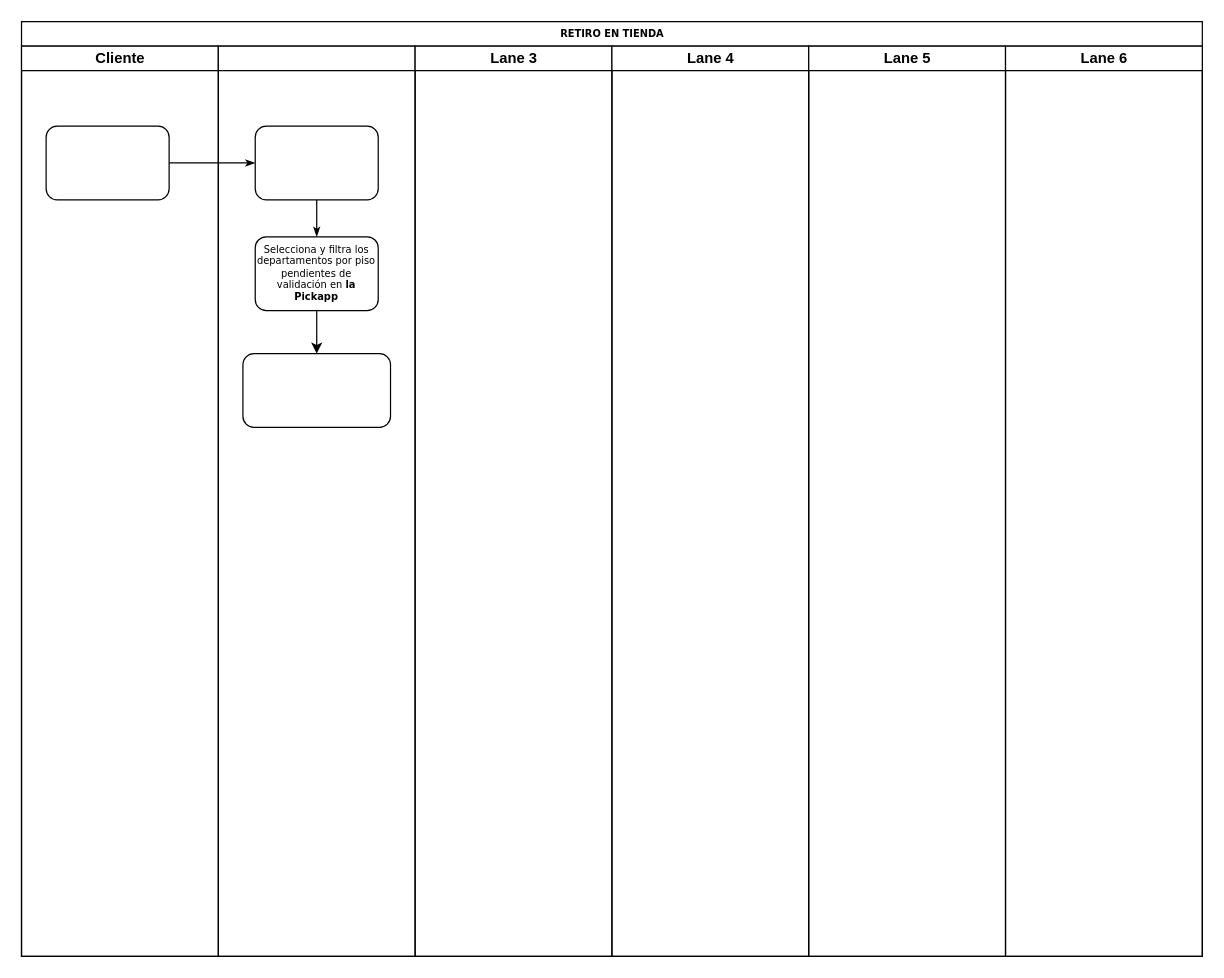
This 1224x978 diagram has some shape labels left out. Here are the shapes that lost their labels. From the top down, the box of each, then its label:
(45, 125, 169, 200): Realiza compra con Retiro en tienda
(254, 125, 378, 200): Recibe los productos comprados por el cliente en la Pickapp separado por CUD
(242, 352, 391, 427): Busca los productos en el piso respectivo
(217, 45, 415, 956): Pickeador
